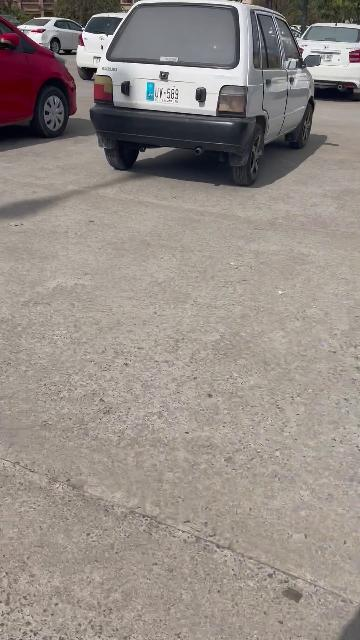plate: (146, 82, 180, 104)
